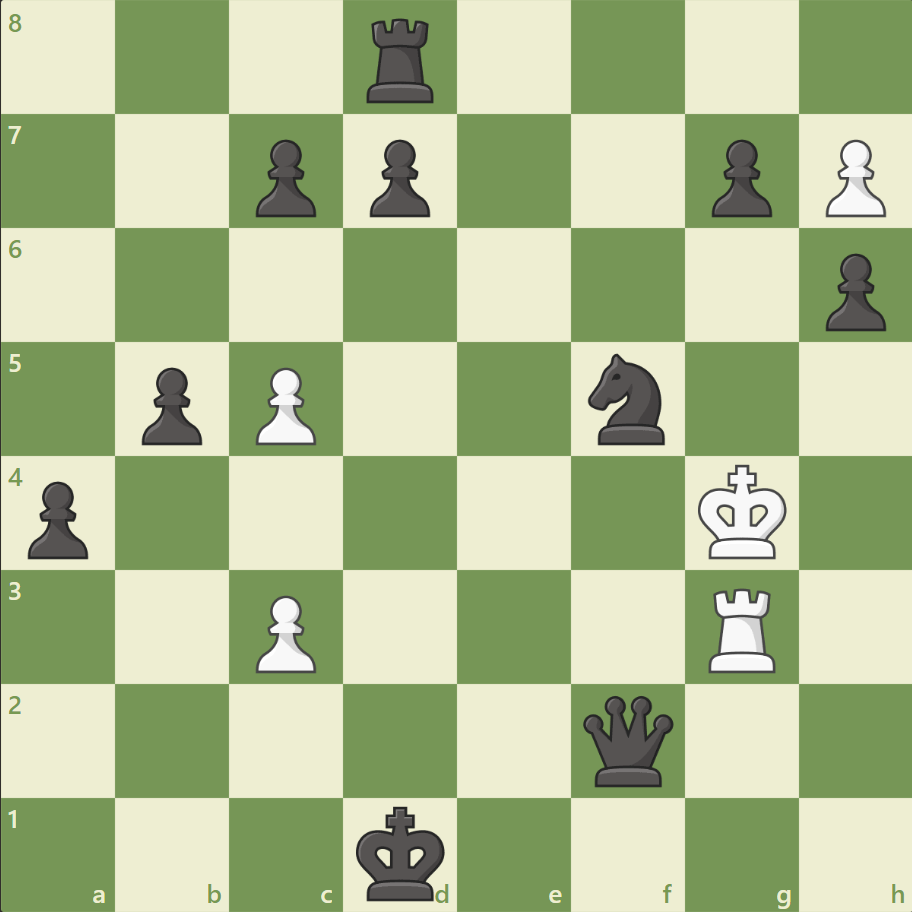K: (692, 458, 792, 566)
P: (247, 359, 322, 450), (247, 586, 322, 677), (815, 132, 889, 223)
R: (700, 579, 783, 676)
k: (351, 798, 451, 906)
n: (579, 348, 676, 450)
p: (247, 132, 322, 223), (701, 132, 776, 223), (133, 359, 208, 450), (20, 473, 95, 564), (361, 132, 435, 223), (815, 246, 889, 337)
q: (578, 690, 677, 789)
r: (360, 12, 442, 109)
